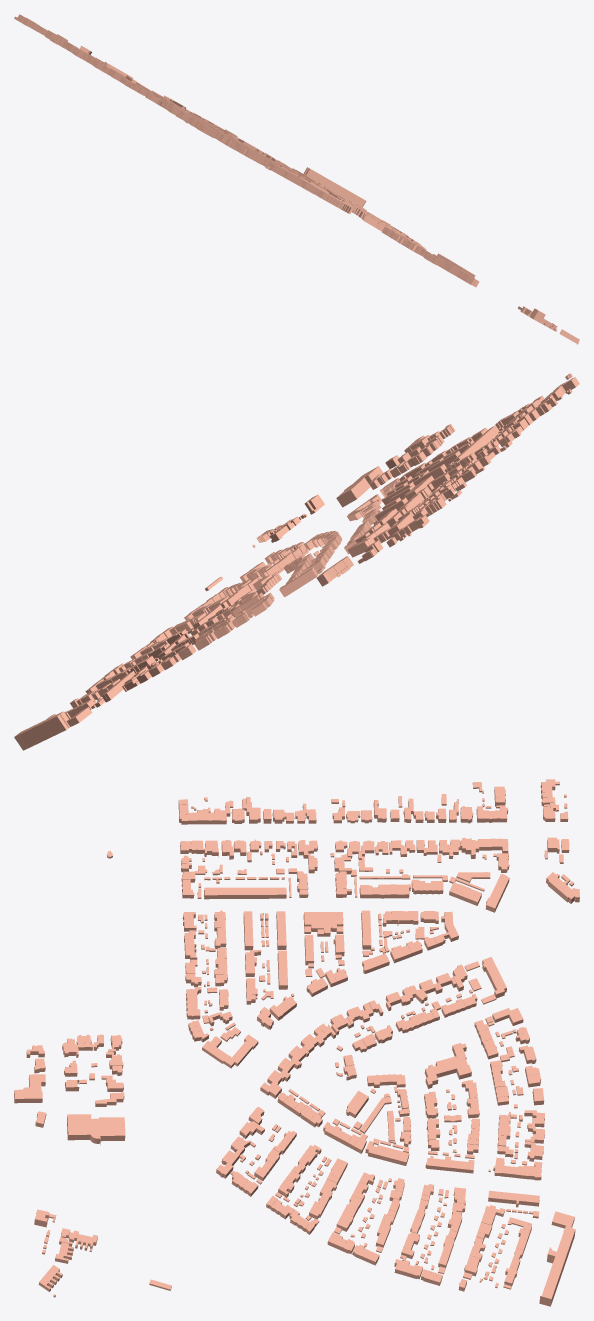
The picture shows the model from 3 angles, top to bottom: view 1: azimuth 30°, elevation 25°; view 2: azimuth 150°, elevation 25°; view 3: azimuth 270°, elevation 25°; orthographic projection. The views are drawn at different scales.
Bounding box in the file's own units: 521 × 390 × 602.
